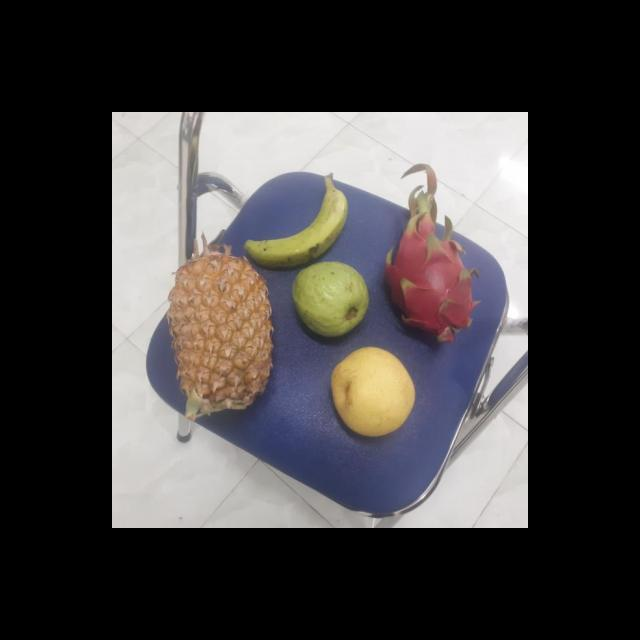banana: (240, 175, 346, 268)
guava: (290, 262, 368, 336)
pear: (326, 345, 418, 438)
pineapple: (162, 257, 274, 413)
pitaya: (380, 218, 476, 344)
